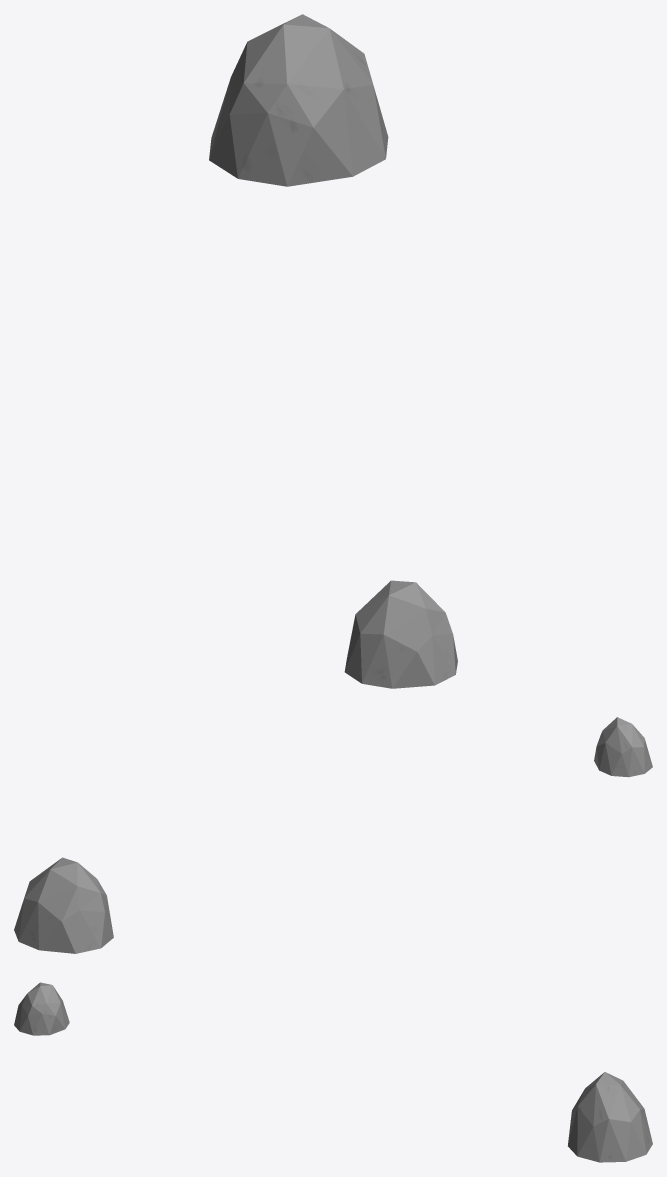
The model's file is Stones11.gltf.
The picture shows the model from 3 angles, top to bottom: view 1: azimuth 30°, elevation 25°; view 2: azimuth 150°, elevation 25°; view 3: azimuth 270°, elevation 25°; orthographic projection. The views are drawn at different scales.
Parts seen in each view (by area): view 1: Stone2.002 - copy.006, Stone2.002 - copy.001; view 2: Stone2.002 - copy.006, Stone2.002 - copy.001; view 3: Stone2.002 - copy.006, Stone2.002 - copy.001.
Part boxes in pixels (x1,y1,x2,y2): Stone2.002 - copy.006: [209, 14, 388, 186]; Stone2.002 - copy.001: [344, 580, 457, 688]; Stone2.002 - copy.006: [14, 857, 113, 953]; Stone2.002 - copy.001: [594, 717, 652, 777]; Stone2.002 - copy.006: [568, 1072, 652, 1162]; Stone2.002 - copy.001: [14, 982, 69, 1035].
Size of the model in its own units: 7.21 by 1.55 by 13.46.
Materials: 1 (1 with a texture image).
